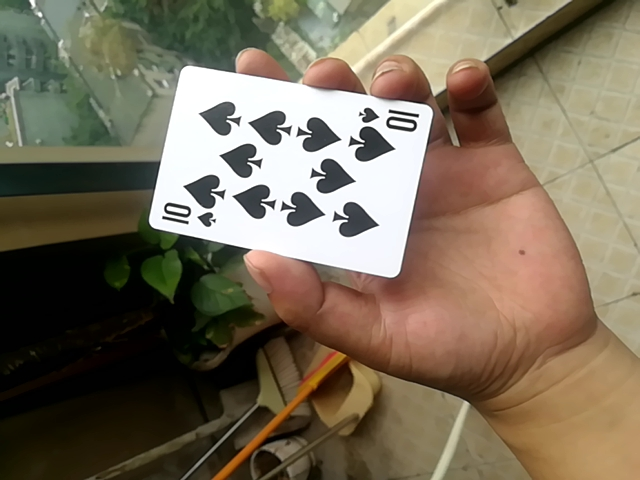ht 10: (144, 61, 431, 279)
